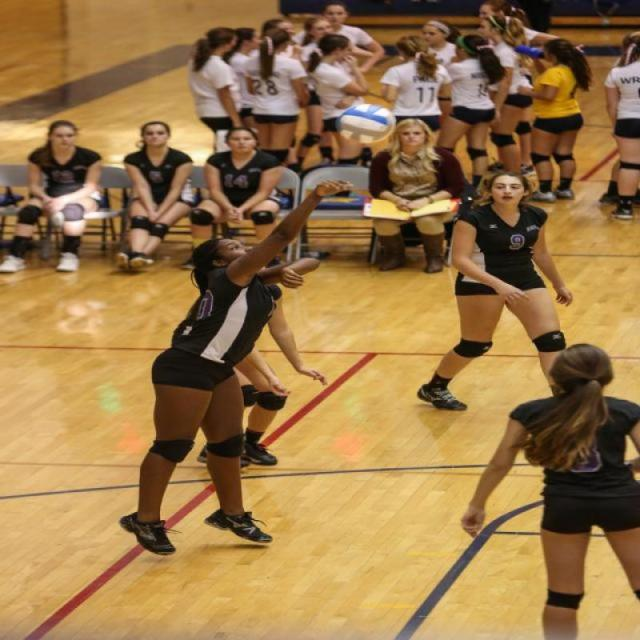volleyball: (336, 104, 394, 144)
